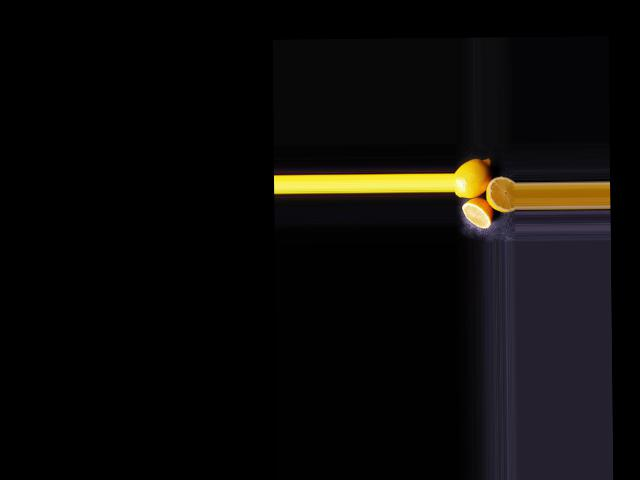lemon: (455, 155, 491, 200)
